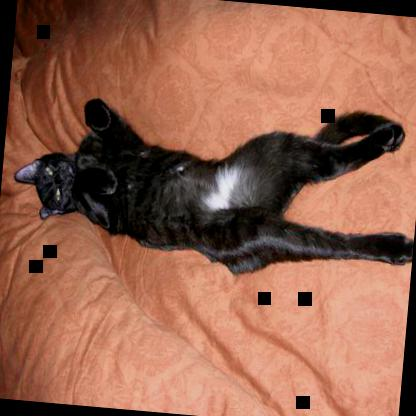cat: (6, 81, 415, 291)
